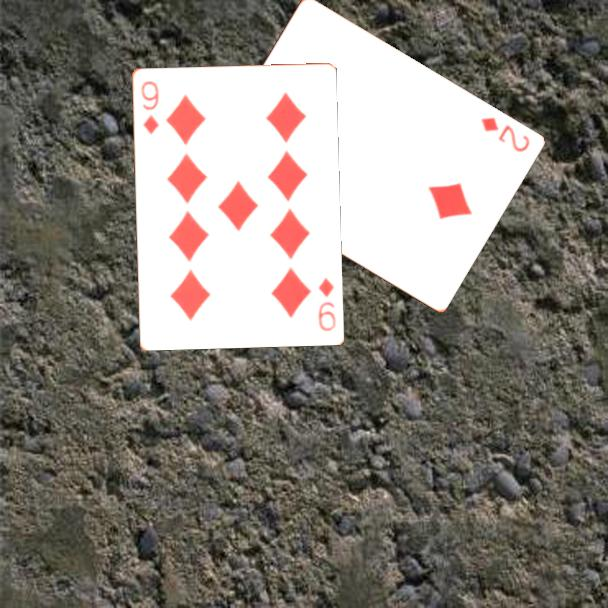d02: (477, 114, 532, 155)
d09: (137, 77, 161, 137), (314, 274, 338, 333)
